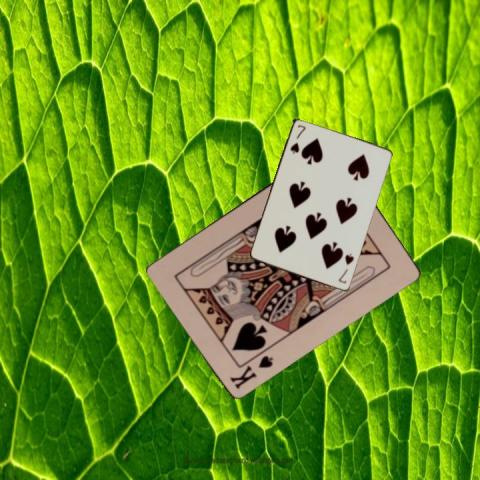7s: (287, 122, 308, 155), (336, 250, 356, 284)
Ks: (226, 351, 274, 390)
